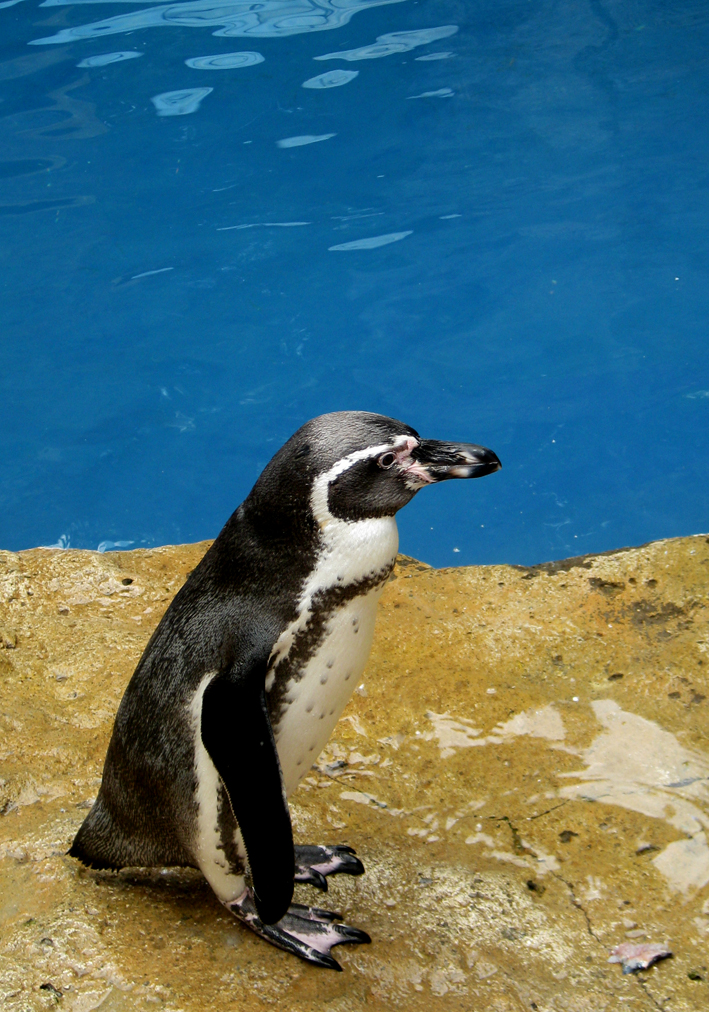penguin: (74, 411, 510, 967)
